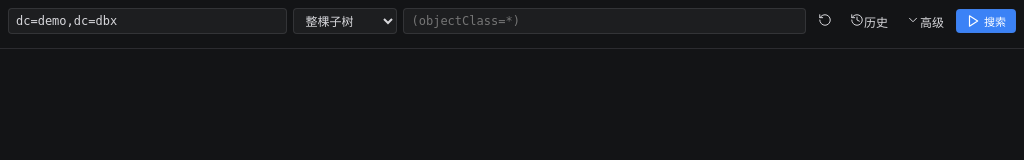
Test case: SearchForm search history › opens the dropdown from the compact bar and shows the empty state
The width and height of the screenshot is (1024, 160).
Step 1. Click the button with class "history-toggle" → {"x": 869, "y": 21}, box [844, 9, 894, 33]
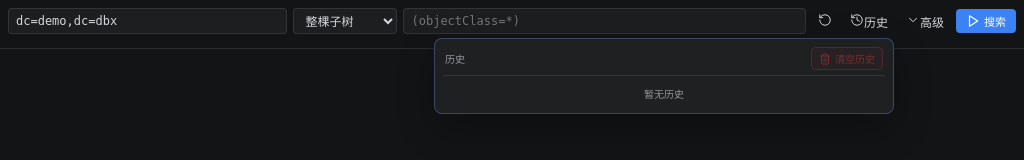
expect the element with class "history-panel" is shown: met, box [434, 38, 894, 114]
expect the text with class "history-empty" reads "暂无历史": met, box [644, 88, 684, 100]
